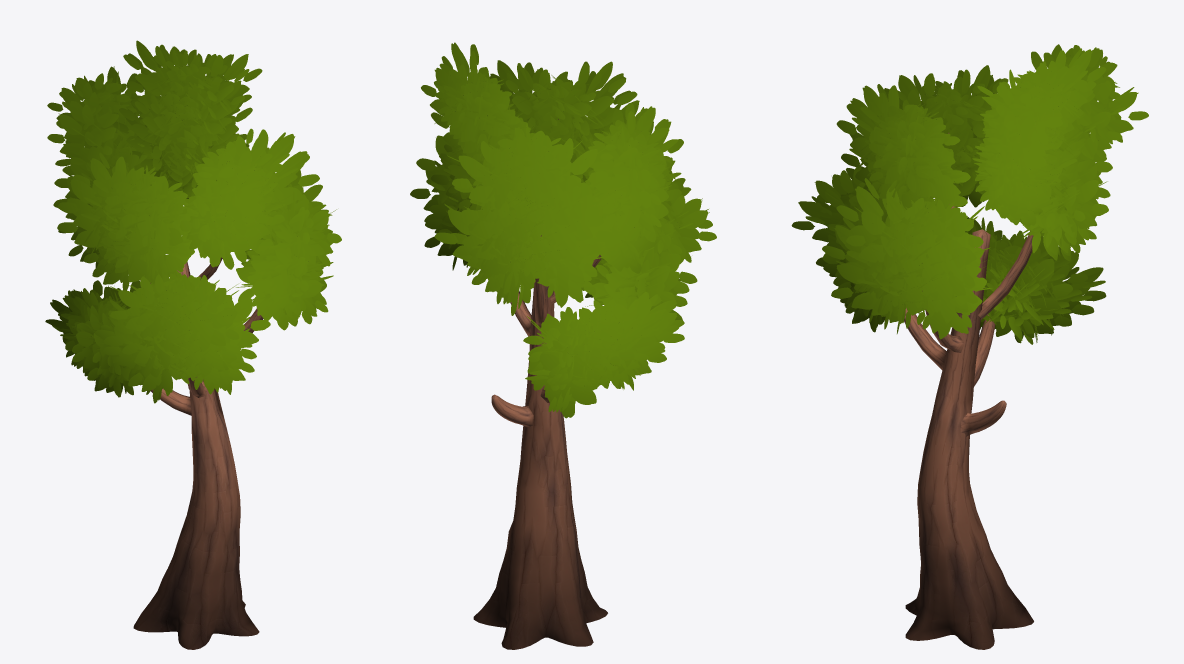
The model's file is CommonTree_5.gltf.
3 renders of one model, left to right at view 1: azimuth 30°, elevation 25°; view 2: azimuth 150°, elevation 25°; view 3: azimuth 270°, elevation 25°, orthographic. The views are drawn at different scales.
Visible parts, largest first — view 1: CommonTree_5; view 2: CommonTree_5; view 3: CommonTree_5.
Boxes of the visible parts, x1,y1,x2,y2 form: CommonTree_5: (45, 40, 341, 649); CommonTree_5: (410, 42, 716, 649); CommonTree_5: (791, 44, 1148, 649).
Bounding box in the file's own units: 3.67 × 7.01 × 4.22.
2 materials, 2 textured.
